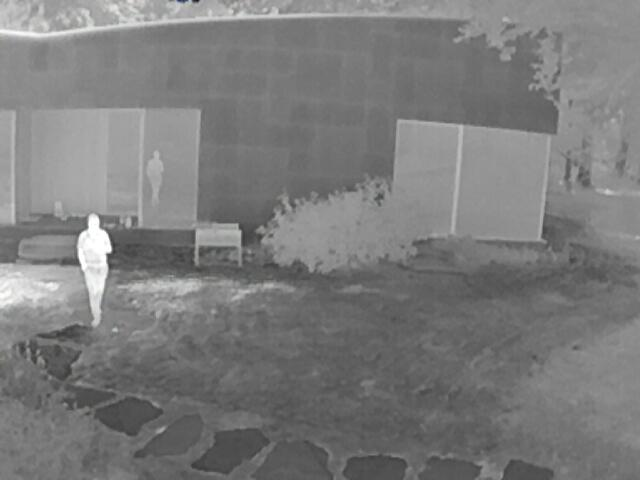person: (77, 215, 111, 328), (145, 150, 165, 208)
